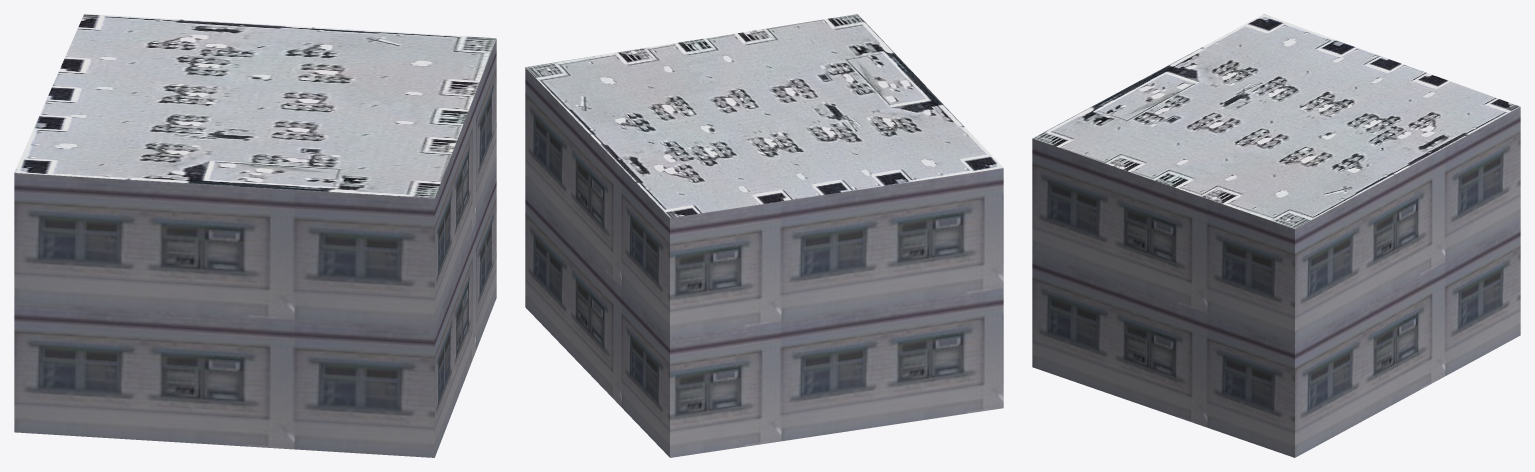
File: ResTex__1318.fbx
The picture shows the model from 3 angles, left to right: view 1: azimuth 30°, elevation 25°; view 2: azimuth 150°, elevation 25°; view 3: azimuth 270°, elevation 25°; orthographic projection. The views are drawn at different scales.
Visible parts, largest first — view 1: CityEngineMaterial_1_m, CityEngineMaterial_8_m; view 2: CityEngineMaterial_1_m, CityEngineMaterial_8_m; view 3: CityEngineMaterial_1_m, CityEngineMaterial_8_m.
Boxes of the visible parts, bbox=[...] form: CityEngineMaterial_1_m: bbox=[14, 39, 496, 457]; CityEngineMaterial_8_m: bbox=[14, 14, 496, 198]; CityEngineMaterial_1_m: bbox=[525, 67, 1003, 457]; CityEngineMaterial_8_m: bbox=[525, 14, 1003, 217]; CityEngineMaterial_1_m: bbox=[1032, 107, 1520, 457]; CityEngineMaterial_8_m: bbox=[1033, 14, 1519, 228].
Size of the model in its own units: 12.1 by 6 by 11.6.
Materials: 2 (2 with a texture image).
